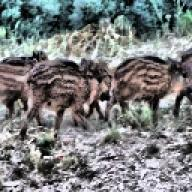boar: (172, 42, 192, 114)
